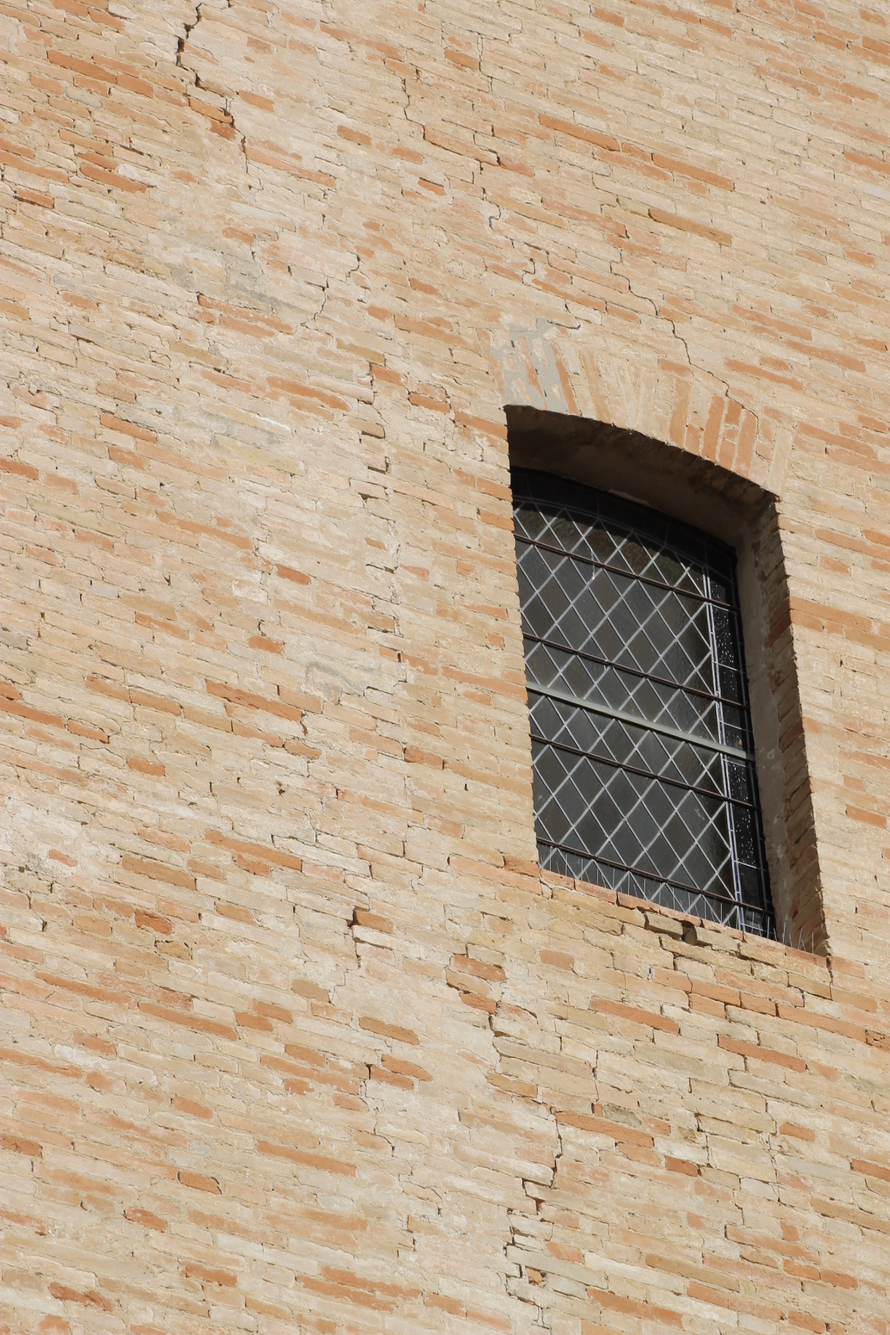Crack: (91, 0, 839, 1264)
